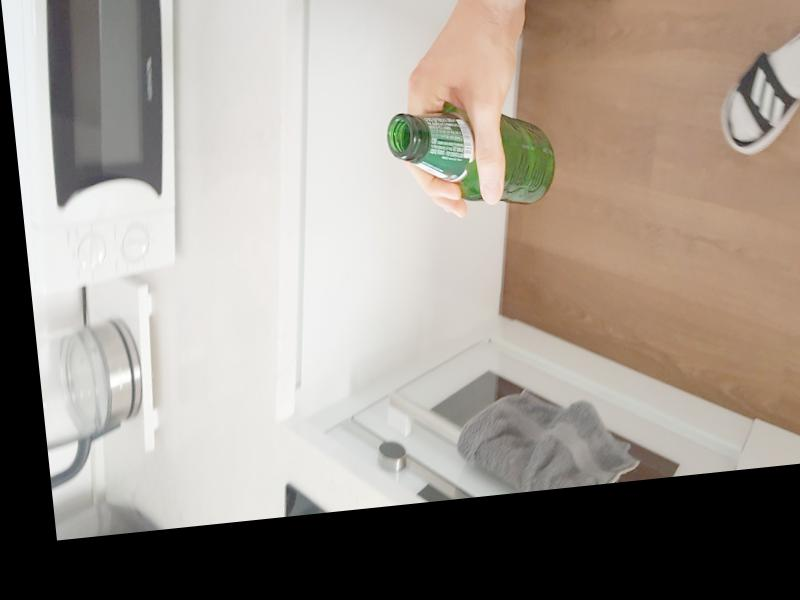Beer: (387, 98, 559, 217)
